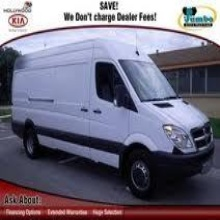no damage: (11, 38, 216, 199)
